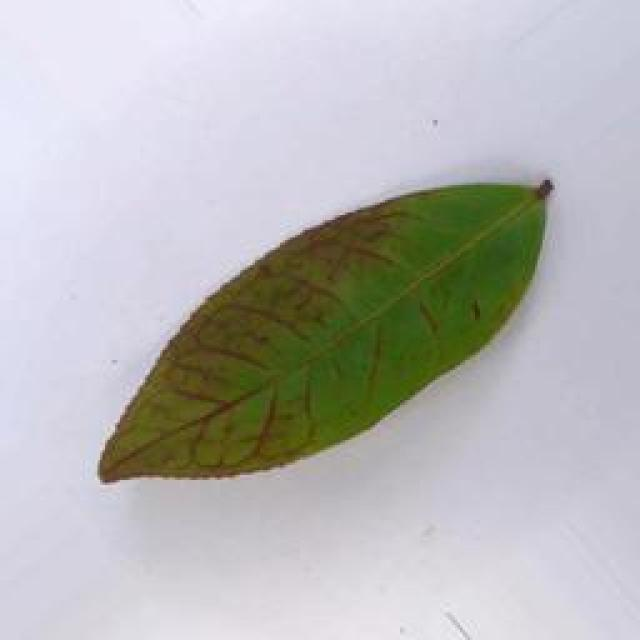Red Leaf Spot: (82, 168, 608, 487)
